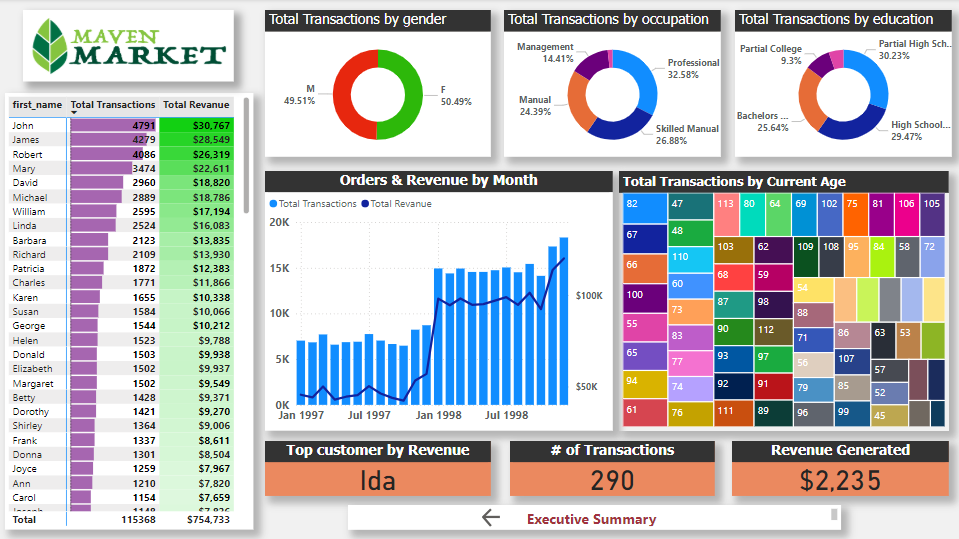

Layout of this report page (visuals, bound fields, positions):
{"tool":"powerbi","page":{"name":"Customer Details","canvas":[1280,720],"ordinal":2},"visuals":[{"type":"pivotTable","fields":{"Rows":["Customers.first_name"],"Values":["BaseMeasure.Total Transactions","BaseMeasure.Total Revanue"]},"box":[10,125,330,580],"z":0},{"type":"image","box":[35,15,280,95],"z":1000},{"type":"lineStackedColumnComboChart","title":"Orders & Revenue by Month","fields":{"Category":["Calendar.Start of Month"],"Y":["BaseMeasure.Total Transactions"],"Y2":["BaseMeasure.Total Revanue"]},"box":[356.7,228.3,461.7,345],"z":2000},{"type":"treemap","fields":{"Group":["Customers.Current Age"],"Values":["BaseMeasure.Total Transactions"]},"box":[826.7,228.3,438.3,345],"z":3000},{"type":"donutChart","fields":{"Category":["Customers.gender"],"Y":["BaseMeasure.Total Transactions"]},"box":[356.7,15,300,195],"z":4000},{"type":"donutChart","fields":{"Y":["BaseMeasure.Total Transactions"],"Category":["Customers.occupation"]},"box":[673.3,15,288.3,195],"z":5000},{"type":"donutChart","fields":{"Y":["BaseMeasure.Total Transactions"],"Category":["Customers.education"]},"box":[980,15,288.3,195],"z":6000},{"type":"card","title":"Top customer by Revenue","fields":{"Values":["Customers.first_name"]},"box":[356.7,586.7,300,73.3],"z":7000},{"type":"card","title":"# of Transactions","fields":{"Values":["BaseMeasure.Total Transactions"]},"box":[681.7,586.7,271.7,73.3],"z":8000},{"type":"card","title":"Revenue Generated","fields":{"Values":["BaseMeasure.Total Revanue"]},"box":[976.7,586.7,288.3,73.3],"z":9000},{"type":"textbox","box":[466.7,671.7,655,33.3],"z":10000},{"type":"actionButton","box":[640,671.7,83.3,33.3],"z":11000}]}

Visuals, with their boxes in screenshot pixels (x1, y1, x2, y2), scaled from the page's 1280x720 canvas onto the 959x539 screenshot:
pivotTable - Customers.first_name x BaseMeasure.Total Transactions: Rect(7, 94, 255, 528)
image: Rect(26, 11, 236, 82)
"Orders & Revenue by Month" lineStackedColumnComboChart: Rect(267, 171, 613, 429)
treemap - Customers.Current Age x BaseMeasure.Total Transactions: Rect(619, 171, 948, 429)
donutChart - Customers.gender x BaseMeasure.Total Transactions: Rect(267, 11, 492, 157)
donutChart - BaseMeasure.Total Transactions x Customers.occupation: Rect(504, 11, 720, 157)
donutChart - BaseMeasure.Total Transactions x Customers.education: Rect(734, 11, 950, 157)
"Top customer by Revenue" card: Rect(267, 439, 492, 494)
"# of Transactions" card: Rect(511, 439, 714, 494)
"Revenue Generated" card: Rect(732, 439, 948, 494)
textbox: Rect(350, 503, 840, 528)
actionButton: Rect(480, 503, 542, 528)
